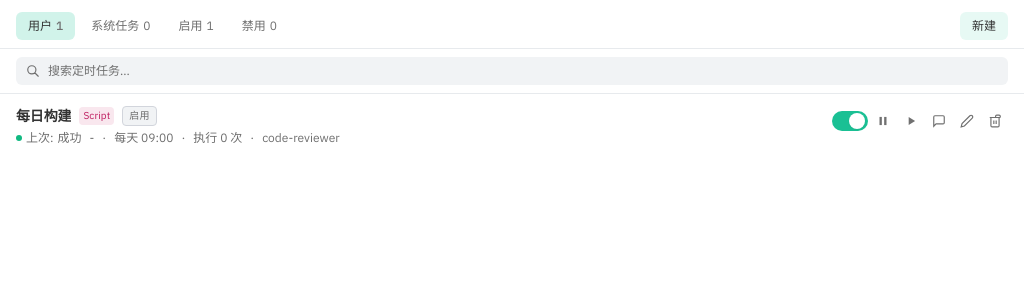
it: 脚本类任务：日志列表与全文（B3） › 列出日志并可就地读取全文
Click the button "每日构建 Script 启用 上次: 成功 - · 每天 09:00 · 执行 0 次 · code-reviewer" at (44, 116), box 16,106 -> 820,146
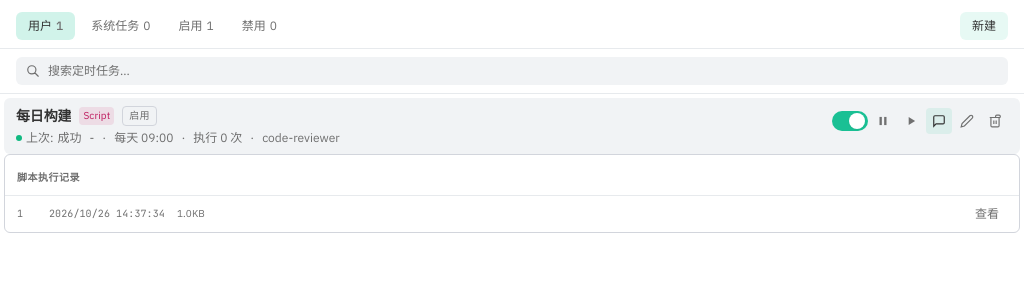
Click the button with aria-label "查看这次执行的日志全文" at (987, 214), box 967,204 -> 1007,224
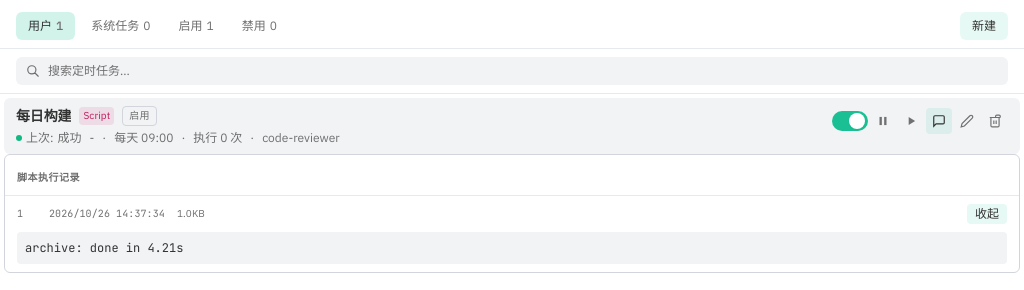
Check: the text "archive: done in 4.21s" is shown, box 17,232 -> 1007,264
